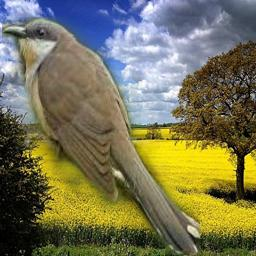Cuckoo: (2, 17, 200, 255)
